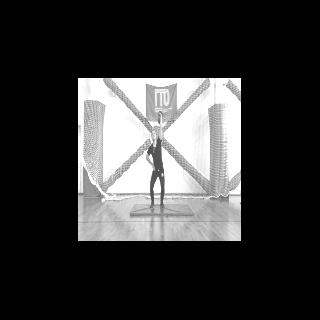kettlebell: (157, 111, 164, 126)
